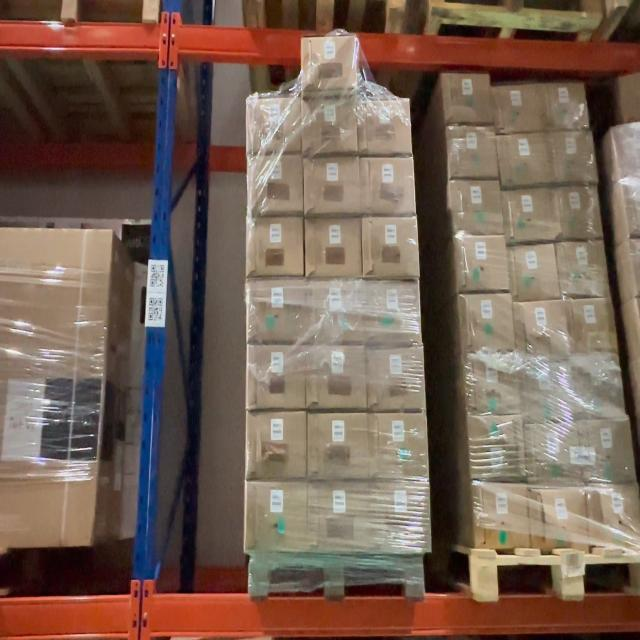box: (246, 481, 307, 551), (307, 482, 368, 550), (247, 411, 306, 479), (308, 412, 367, 479), (370, 482, 428, 550), (247, 344, 305, 409), (247, 278, 305, 342), (367, 349, 424, 414), (368, 413, 424, 479), (364, 280, 418, 344), (307, 346, 366, 404), (307, 281, 362, 343), (305, 218, 361, 276), (246, 217, 302, 274), (247, 155, 303, 212), (532, 487, 584, 548), (470, 416, 521, 478), (478, 486, 529, 546), (302, 94, 356, 150), (306, 157, 358, 215), (571, 356, 618, 420), (589, 486, 639, 546), (516, 300, 564, 362), (248, 96, 301, 152), (362, 158, 414, 215), (527, 424, 577, 483), (364, 218, 414, 276), (584, 417, 628, 482), (302, 38, 354, 92), (463, 294, 510, 352), (359, 99, 407, 155), (506, 189, 553, 246), (460, 233, 506, 290), (521, 363, 566, 420), (470, 357, 516, 412), (560, 241, 604, 297), (501, 134, 546, 186), (510, 244, 552, 298), (494, 85, 540, 134), (554, 189, 596, 242), (569, 300, 611, 353), (456, 181, 500, 231), (546, 132, 590, 182), (444, 74, 486, 124), (451, 130, 494, 177), (542, 84, 584, 130)
